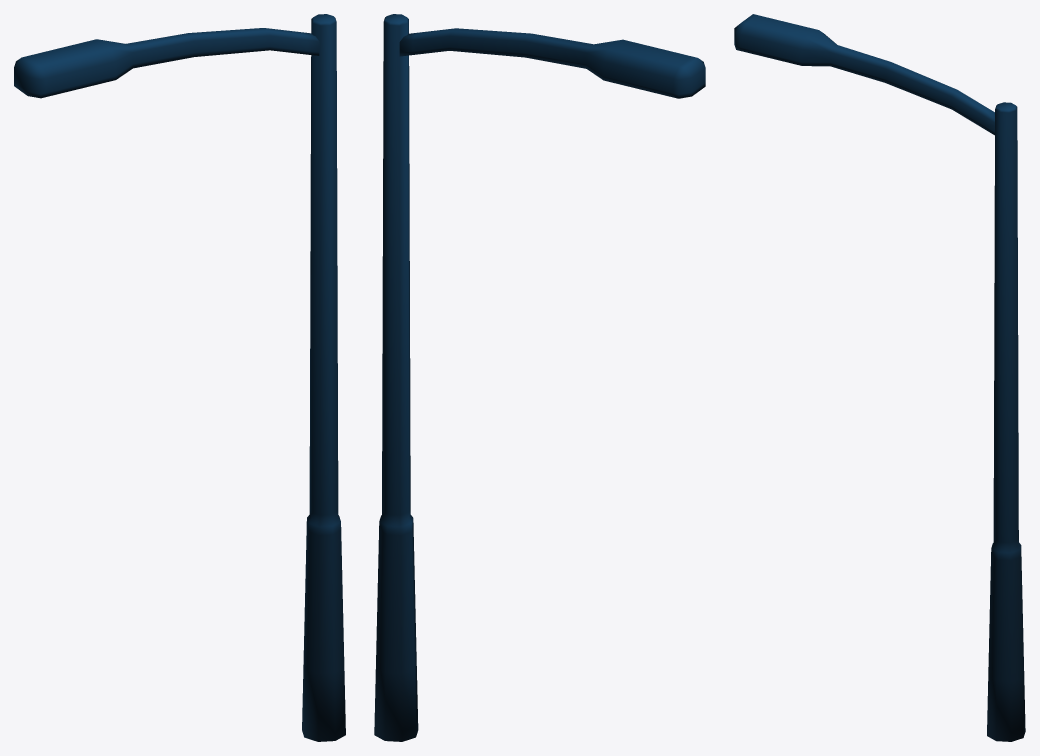
Rendered from StreetLightNight.fbx.
3 views of the same model, side by side, from view 1: azimuth 30°, elevation 25°; view 2: azimuth 150°, elevation 25°; view 3: azimuth 330°, elevation 25° (orthographic). The views are drawn at different scales.
Parts seen in each view (by area): view 1: StreetLightNight; view 2: StreetLightNight; view 3: StreetLightNight.
Part boxes in pixels (left/top/right/bottom): StreetLightNight: left=14, top=14, right=345, bottom=741; StreetLightNight: left=374, top=14, right=705, bottom=741; StreetLightNight: left=734, top=14, right=1025, bottom=741.
Size of the model in its own units: 308 by 677 by 41.36.
